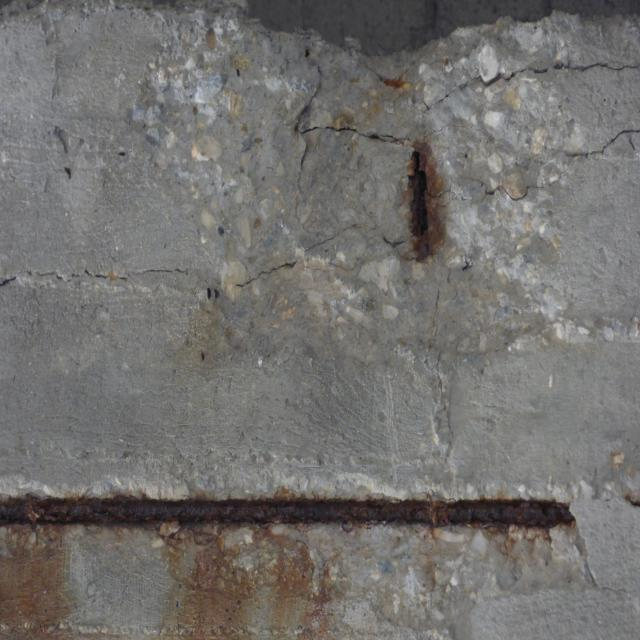corrosion: (0, 484, 584, 640), (325, 67, 465, 270)
